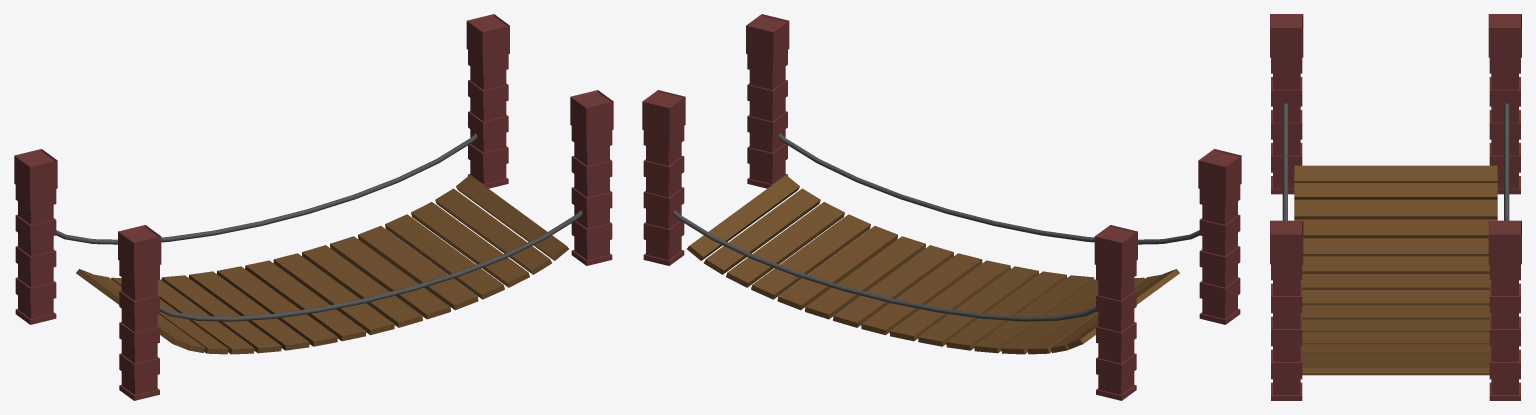
File: bridge-rope.glb
The picture shows the model from 3 angles, left to right: view 1: azimuth 30°, elevation 25°; view 2: azimuth 150°, elevation 25°; view 3: azimuth 270°, elevation 25°; orthographic projection. The views are drawn at different scales.
Parts seen in each view (by area): view 1: Cube.022, Cube.024, Cube.025, BézierCurve.001; view 2: Cube.022, Cube.024, Cube.025, BézierCurve.001; view 3: Cube.022, Cube.025, Cube.024, BézierCurve.001.
Boxes of the visible parts, x1=… form: Cube.022: x1=76, y1=175, x2=568, y2=354; Cube.024: x1=14, y1=149, x2=161, y2=400; Cube.025: x1=466, y1=14, x2=613, y2=265; BézierCurve.001: x1=56, y1=133, x2=582, y2=321; Cube.022: x1=687, y1=175, x2=1179, y2=354; Cube.024: x1=1094, y1=149, x2=1241, y2=400; Cube.025: x1=642, y1=14, x2=789, y2=265; BézierCurve.001: x1=673, y1=133, x2=1199, y2=321; Cube.022: x1=1294, y1=165, x2=1497, y2=375; Cube.025: x1=1270, y1=220, x2=1521, y2=400; Cube.024: x1=1270, y1=14, x2=1521, y2=194; BézierCurve.001: x1=1282, y1=103, x2=1509, y2=220.
Bounding box in the file's own units: 3.07 × 1.13 × 1.33.
